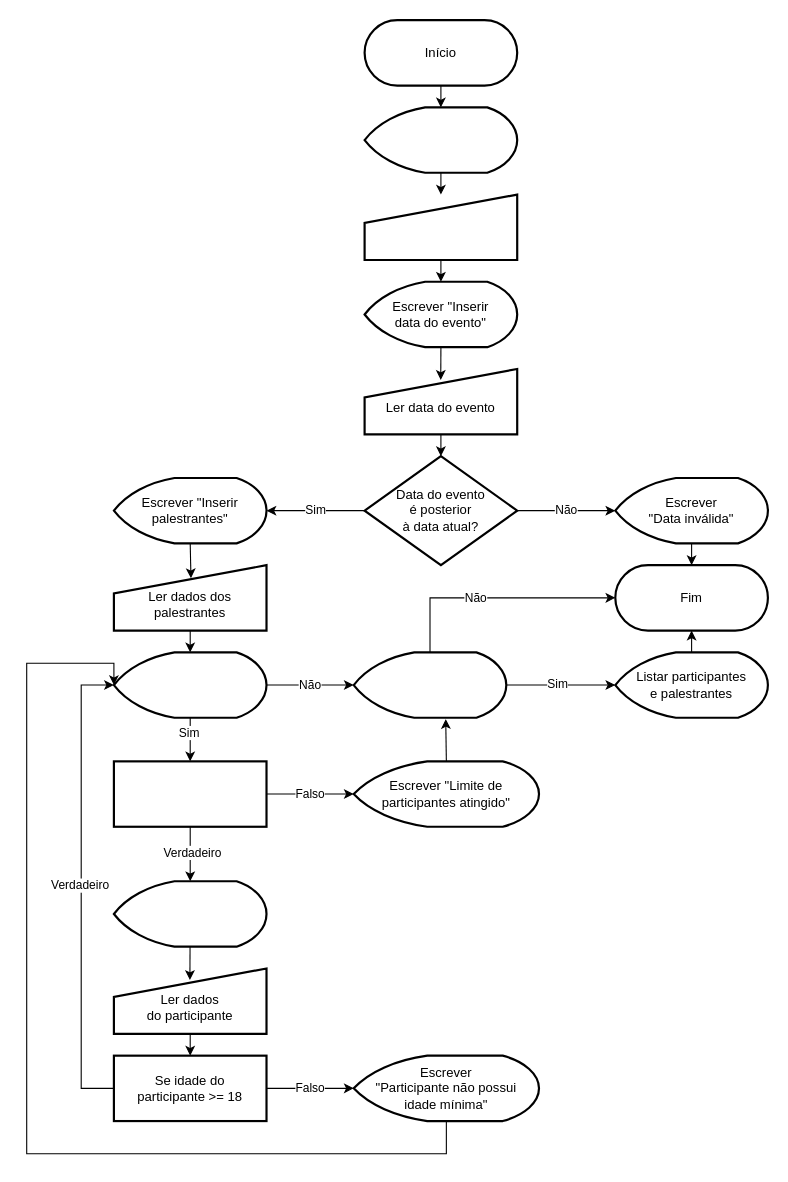
The diagram is 788 pixels wide and 1182 high, and some of its shapes have lost their labels. The shapes that lost their labels are listed below. From the top down, each one's box as (x1, y1, x2, y2) in pixels, then its label:
(363, 106, 518, 173): Escrever "Inserir nome do evento:
(363, 193, 518, 261): Ler nome do evento
(112, 651, 267, 718): Escrever "Inserir novo participante?"
(352, 651, 507, 718): Escrever "Listar participantes e palestrantes?"
(112, 760, 267, 827): Se quantidade de participantes < 100
(112, 880, 267, 947): Escrever "Inserir novo participante"
